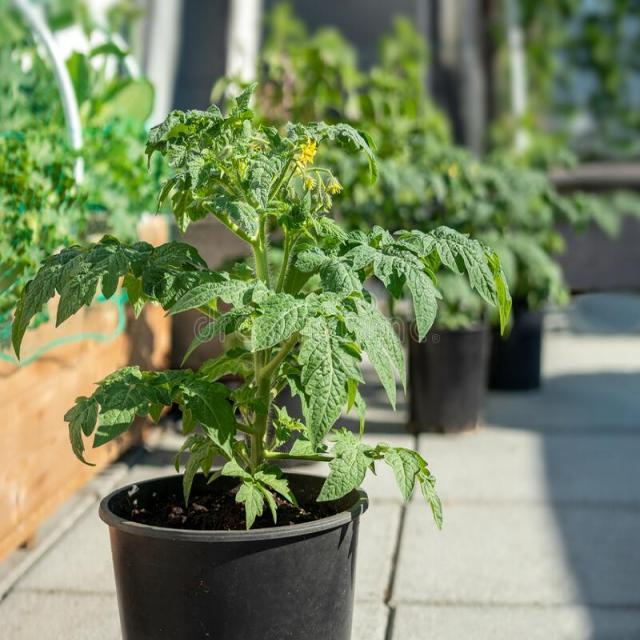tomato: (11, 85, 511, 529)
